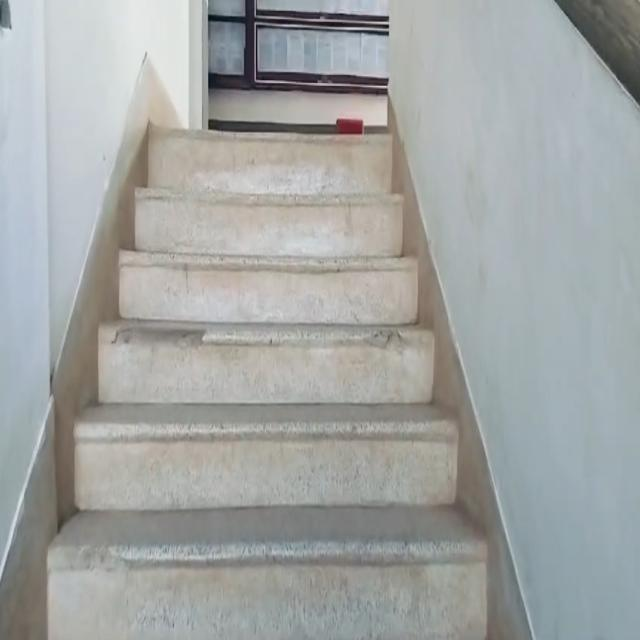stairs ahead at: (46, 121, 486, 635)
